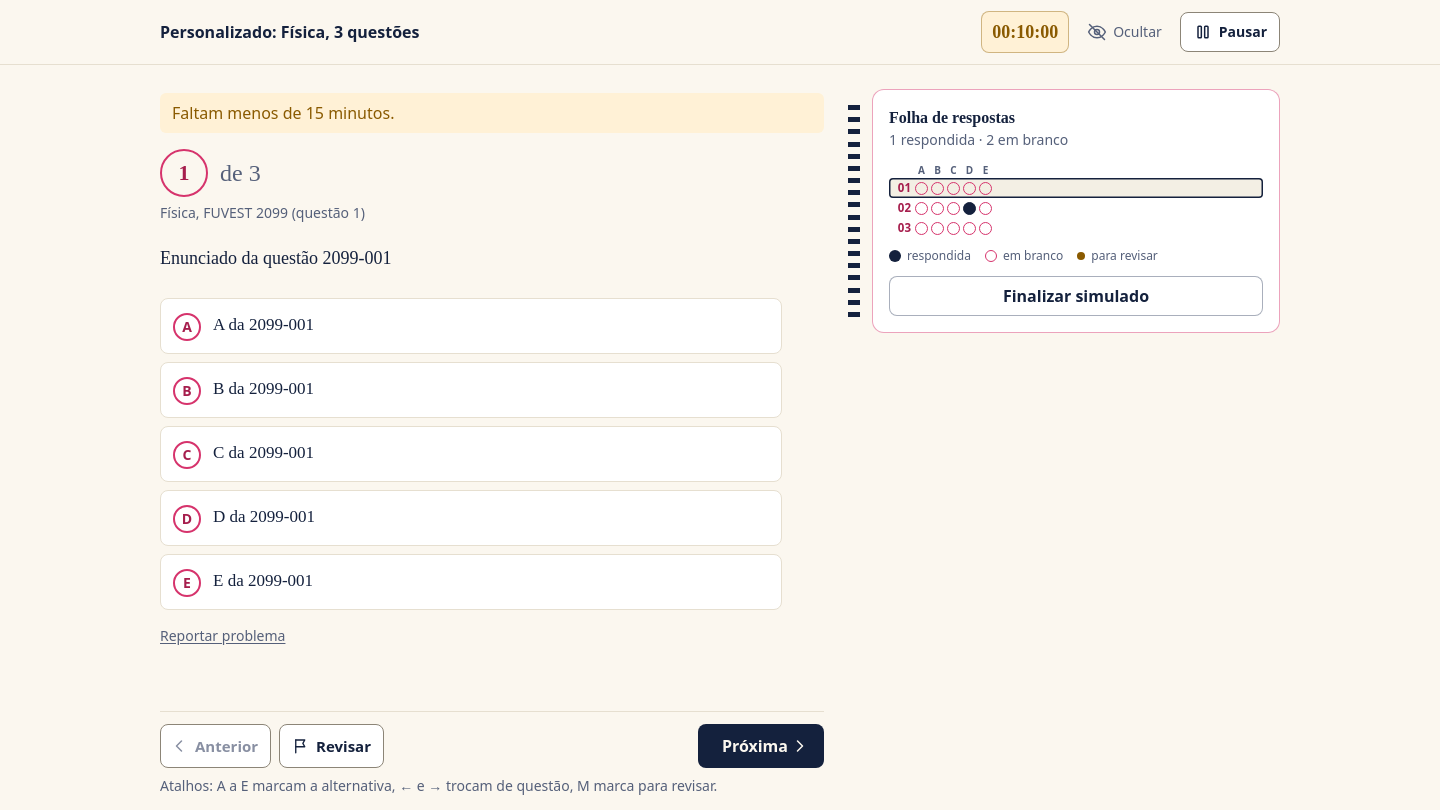
Test case: Resolução (RF-013 a RF-016) › retoma o simulado salvo, responde e a folha de respostas acompanha
The image size is (1440, 810).
Expected: the text "Enunciado da questão 2099-001" is shown, top-left (160, 248), bottom-right (392, 268)
Expected: the button named "Questão 2: respondida D" is shown, top-left (889, 198), bottom-right (1263, 218)
Click the radio button with aria-label "Alternativa C" at x=264, y=452, box top-left (160, 426), bottom-right (782, 482)
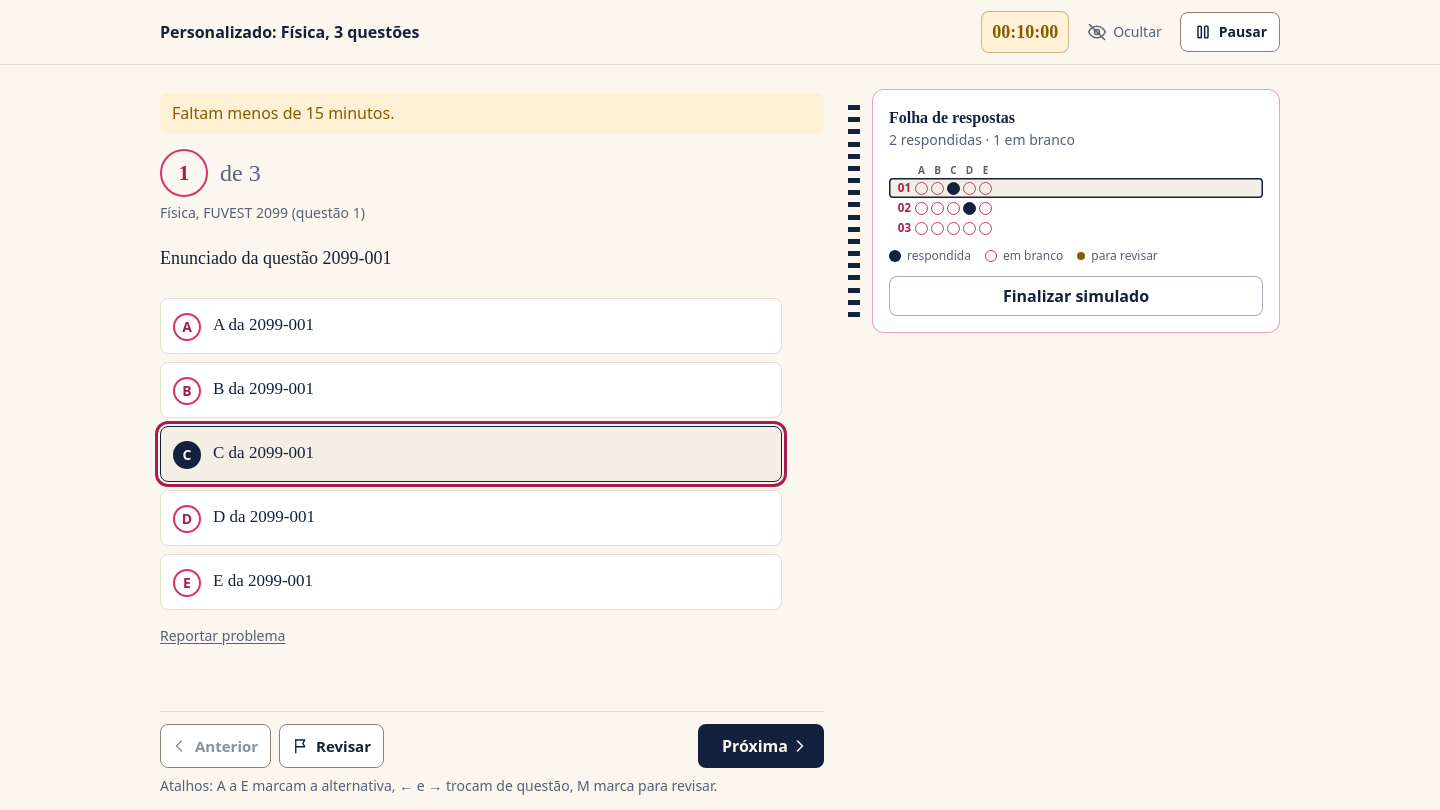
Result: the button named "Questão 1: respondida C" is shown at top-left (889, 178), bottom-right (1263, 198)
